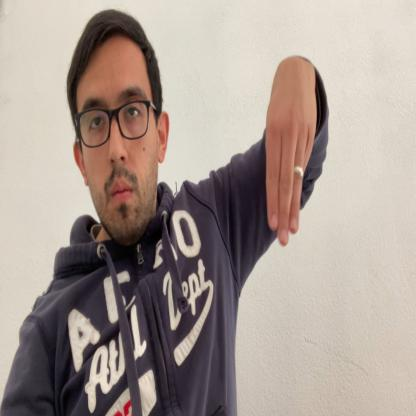M: (264, 57, 318, 247)
